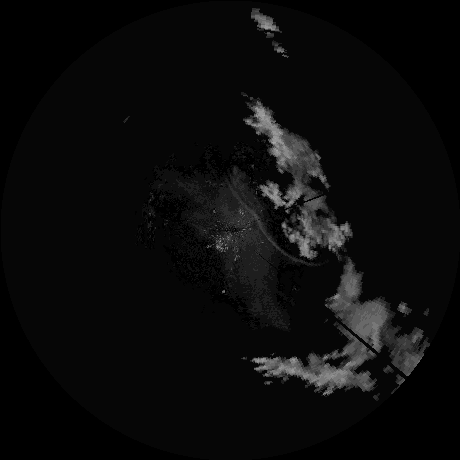frontgust: (227, 180, 259, 223), (264, 226, 279, 255)
